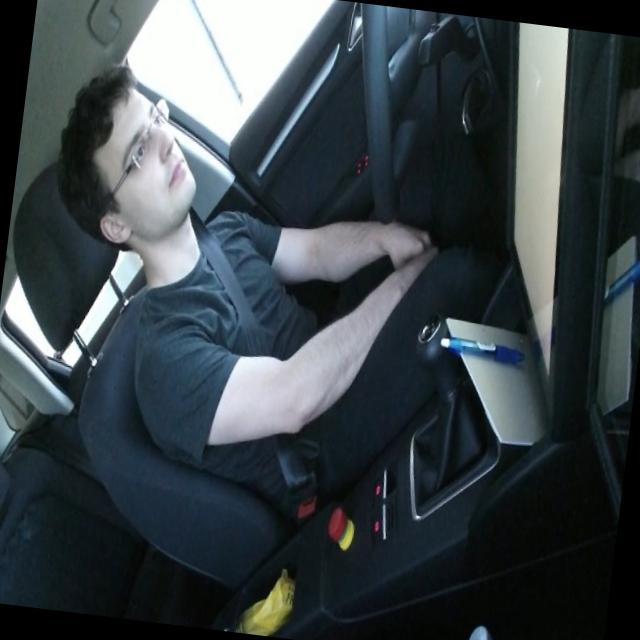pen: (437, 332, 526, 365)
